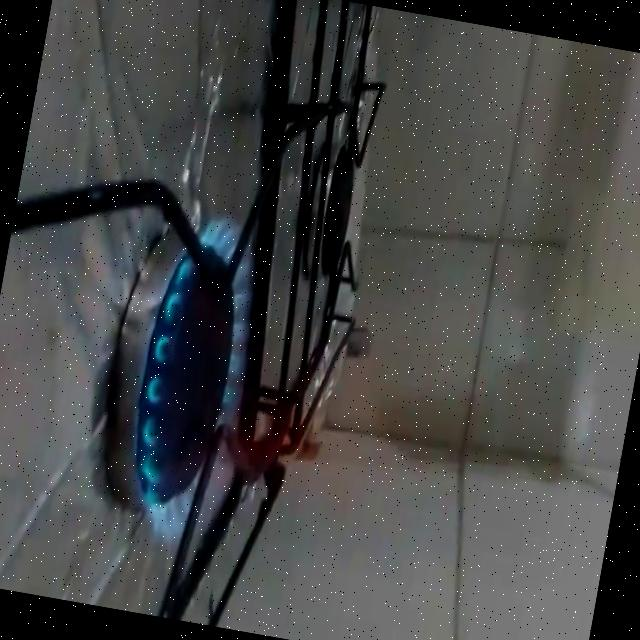fire: (115, 203, 451, 592)
